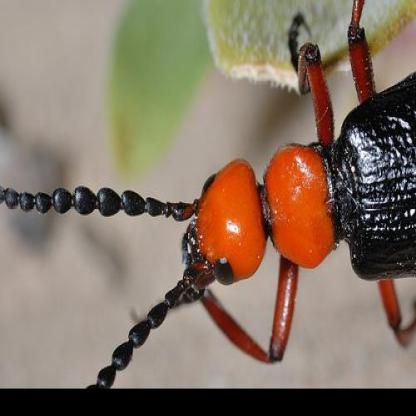beetle: (0, 11, 414, 386)
